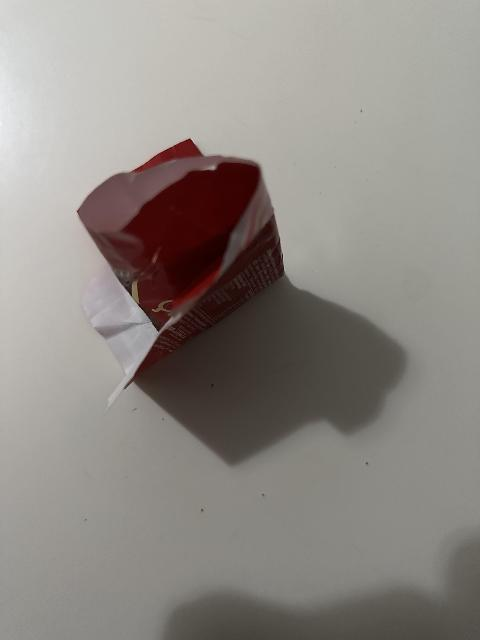Kagit: (75, 137, 285, 417)
